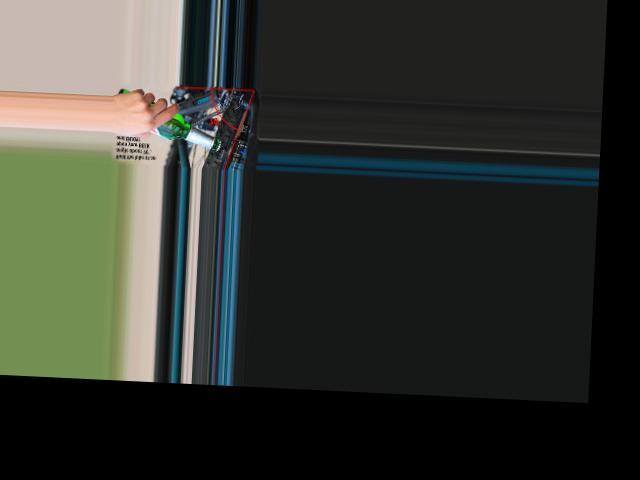beer: (116, 88, 225, 151)
